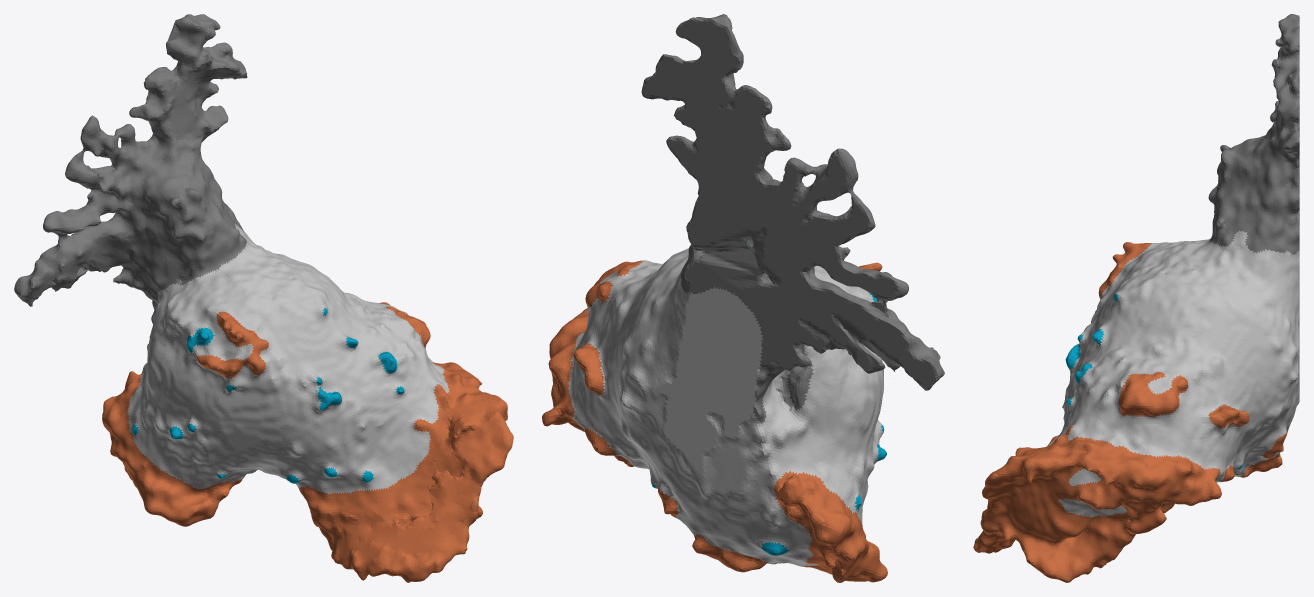
The picture shows the model from 3 angles, left to right: view 1: azimuth 30°, elevation 25°; view 2: azimuth 150°, elevation 25°; view 3: azimuth 270°, elevation 25°; orthographic projection. The views are drawn at different scales.
Bounding box in the file's own units: 150 × 185 × 109.
